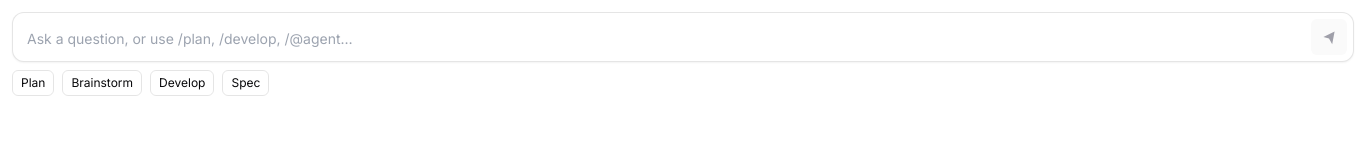
ChatComposer › chip interaction › clicking Brainstorm chip sets textarea to /brainstorm  and focuses it
The image size is (1366, 160).
Click the button with test id "chat-composer-chip-brainstorm" at (102, 83), box top-left (62, 70), bottom-right (142, 96)
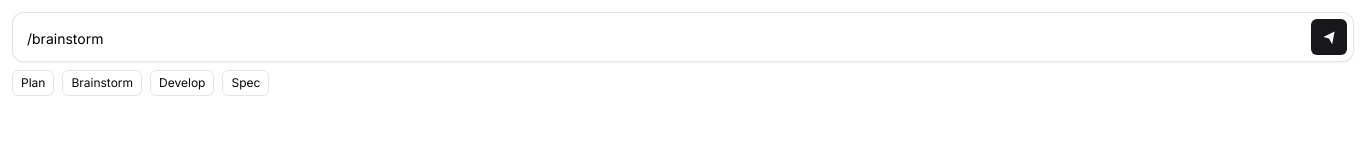
Expected: the text box with test id "chat-composer-textarea" holds "/brainstorm ", top-left (19, 23), bottom-right (1303, 55)
